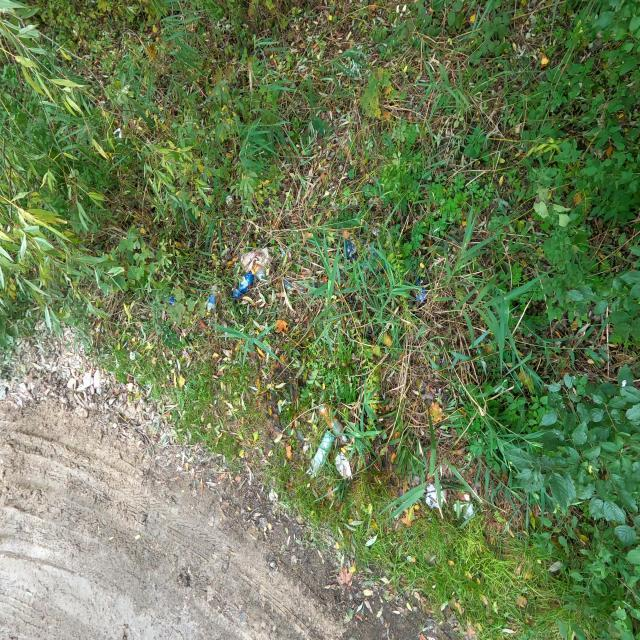rubbish: (342, 233, 378, 272), (318, 399, 348, 445), (308, 430, 335, 477), (240, 246, 278, 272), (237, 251, 267, 279), (333, 449, 353, 482), (232, 272, 254, 301), (425, 483, 447, 512), (452, 498, 476, 521), (411, 278, 427, 310), (280, 279, 315, 291), (206, 284, 218, 316), (111, 128, 125, 140), (224, 195, 235, 209), (167, 296, 177, 306)
